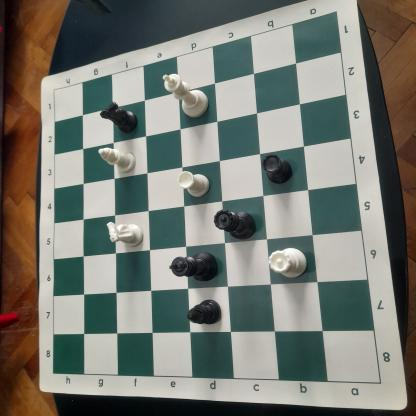black-bishop: (184, 295, 225, 328)
black-king: (168, 249, 220, 286)
black-knight: (96, 98, 140, 135)
black-queen: (212, 205, 258, 242)
black-rook: (260, 150, 295, 186)
white-bishop: (96, 146, 137, 174)
white-king: (161, 71, 210, 120)
white-knight: (104, 219, 147, 249)
white-queen: (267, 247, 310, 282)
white-rook: (176, 170, 212, 200)
